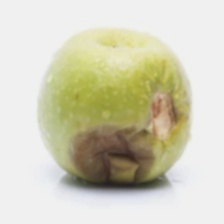apple: (29, 31, 173, 224)
